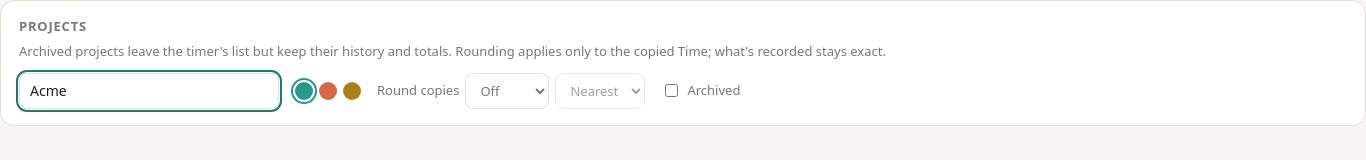
Test: ProjectSettings › Escape keeps the old name
Replace the text in the field named "Rename Acme" with "Nope": [149, 91] box [19,73,279,109]
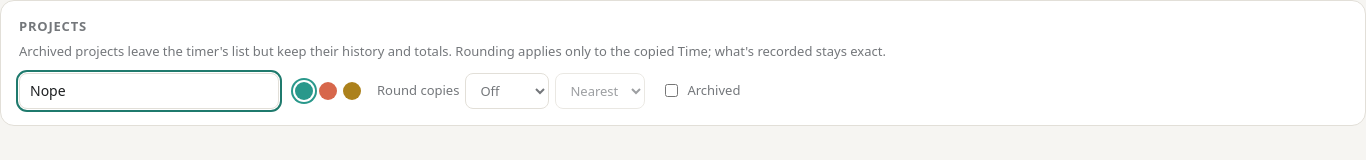
Press Escape in the field named "Rename Acme", box [19,73,279,109]
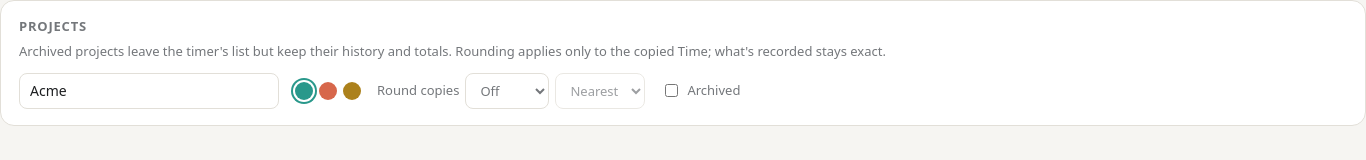
Now the field named "Rename Acme" holds "Acme", box [19,73,279,109]
